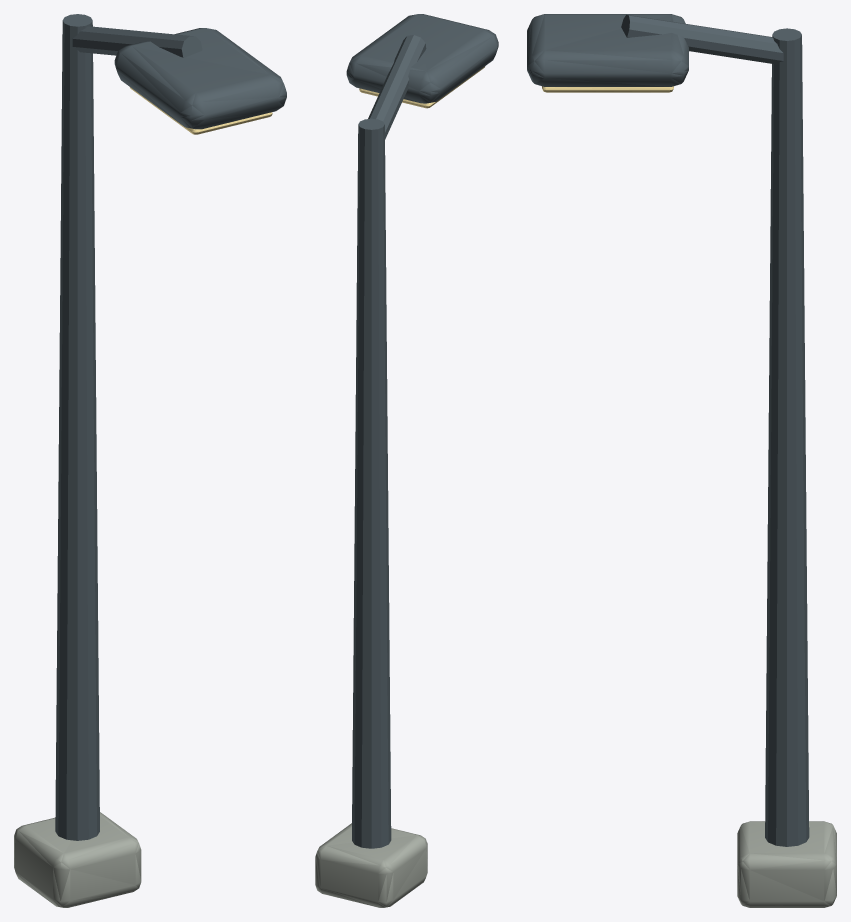
File: streetlamp.glb
The picture shows the model from 3 angles, left to right: view 1: azimuth 30°, elevation 25°; view 2: azimuth 150°, elevation 25°; view 3: azimuth 270°, elevation 25°; orthographic projection. The views are drawn at different scales.
Parts seen in each view (by area): view 1: Keep_Mesh, Occlude_LampHead_Mesh; view 2: Keep_Mesh, Occlude_LampHead_Mesh; view 3: Keep_Mesh, Occlude_LampHead_Mesh.
Boxes of the visible parts, <box> form: Keep_Mesh: <box>14,14,202,907</box>; Occlude_LampHead_Mesh: <box>114,28,286,134</box>; Keep_Mesh: <box>315,35,427,907</box>; Occlude_LampHead_Mesh: <box>346,14,498,108</box>; Keep_Mesh: <box>621,14,836,907</box>; Occlude_LampHead_Mesh: <box>527,14,688,92</box>.
Size of the model in its own units: 0.59 by 3.95 by 1.25.
